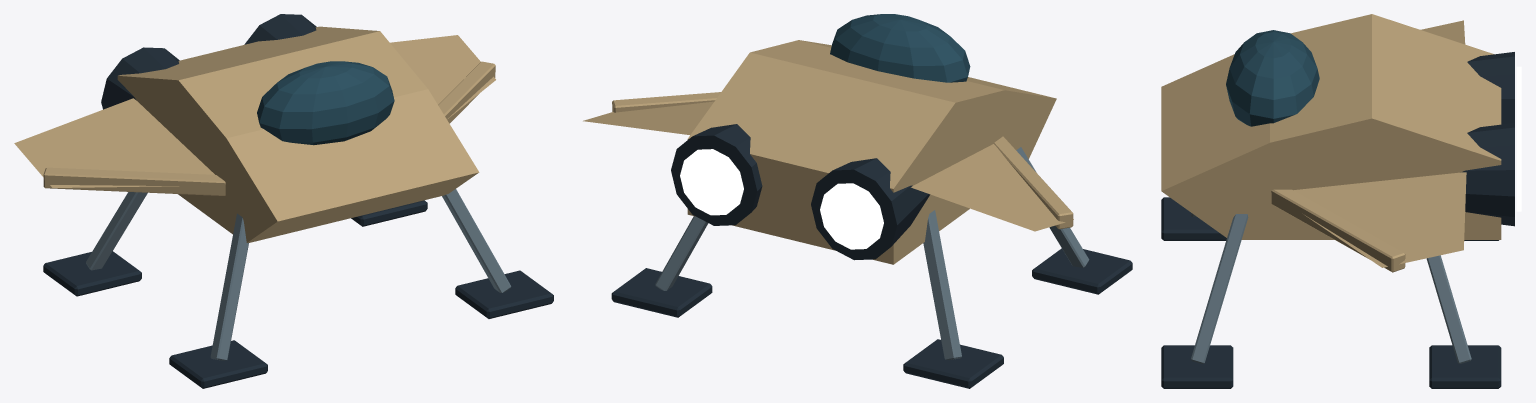
File: space-lander.lod0.glb
The picture shows the model from 3 angles, left to right: view 1: azimuth 30°, elevation 25°; view 2: azimuth 150°, elevation 25°; view 3: azimuth 270°, elevation 25°; orthographic projection. The views are drawn at different scales.
Parts seen in each view (by area): view 1: space-lander__body, space-lander__leg_-1p7_1p3, space-lander__leg_1p7_1p3, space-lander__leg_-1p7_-1p3, space-lander__leg_1p7_-1p3; view 2: space-lander__body, space-lander__leg_-1p7_-1p3, space-lander__leg_1p7_-1p3, space-lander__leg_-1p7_1p3; view 3: space-lander__body, space-lander__leg_1p7_1p3, space-lander__leg_1p7_-1p3, space-lander__leg_-1p7_1p3.
Boxes of the visible parts, x1=… form: space-lander__body: x1=14, y1=14, x2=495, y2=242; space-lander__leg_-1p7_1p3: x1=169, y1=213, x2=267, y2=388; space-lander__leg_1p7_1p3: x1=442, y1=189, x2=553, y2=318; space-lander__leg_-1p7_-1p3: x1=43, y1=192, x2=147, y2=296; space-lander__leg_1p7_-1p3: x1=351, y1=200, x2=427, y2=226; space-lander__body: x1=583, y1=14, x2=1073, y2=264; space-lander__leg_-1p7_-1p3: x1=903, y1=210, x2=1003, y2=388; space-lander__leg_1p7_-1p3: x1=611, y1=216, x2=712, y2=317; space-lander__leg_-1p7_1p3: x1=1016, y1=147, x2=1132, y2=294; space-lander__body: x1=1161, y1=14, x2=1521, y2=272; space-lander__leg_1p7_1p3: x1=1161, y1=214, x2=1248, y2=388; space-lander__leg_1p7_-1p3: x1=1426, y1=255, x2=1501, y2=388; space-lander__leg_-1p7_1p3: x1=1161, y1=197, x2=1226, y2=240.
Size of the model in its own units: 5.37 by 2.75 by 3.5.
